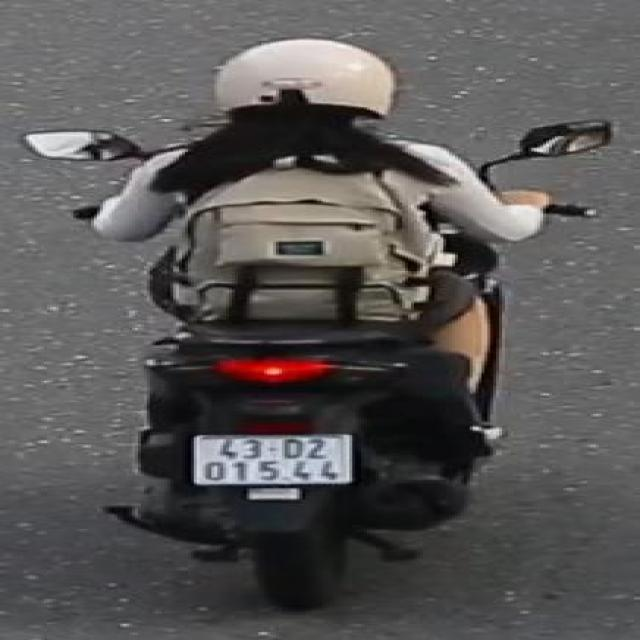LP: (175, 426, 371, 492)
helmet: (168, 28, 462, 180)
